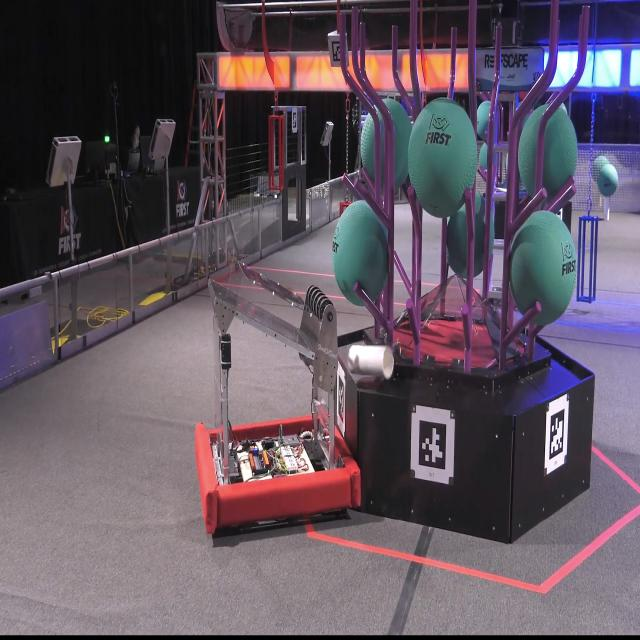Coral: (347, 342, 394, 380), (604, 197, 609, 220)
